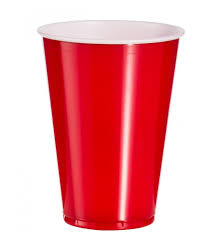glass: (32, 17, 189, 232)
